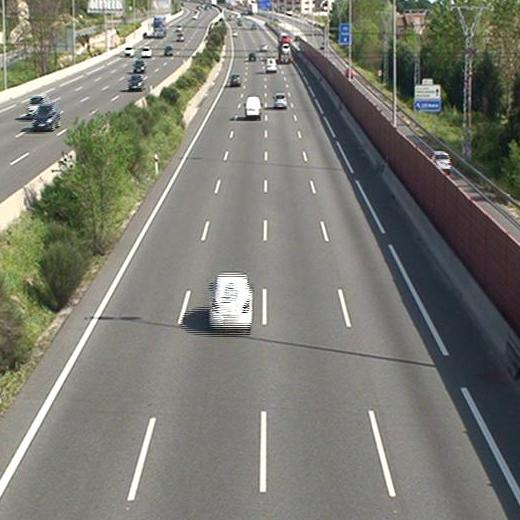car: (210, 273, 252, 328), (273, 92, 287, 107), (229, 74, 240, 85)
van: (245, 96, 260, 117), (265, 60, 276, 73)
